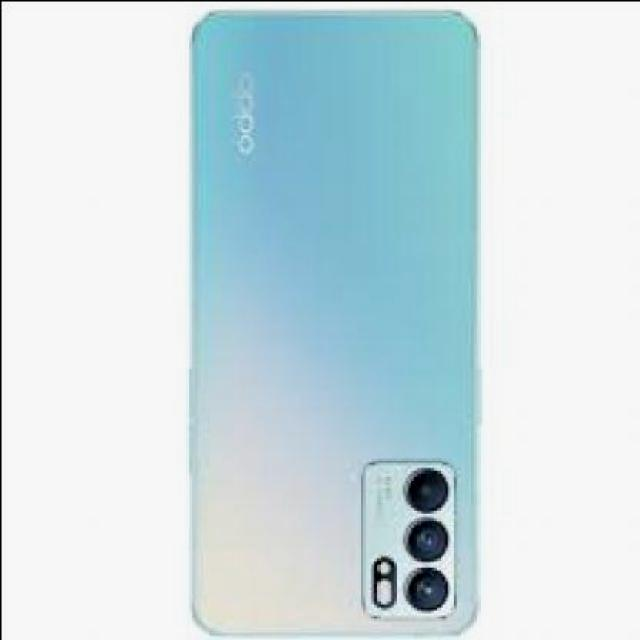phone: (187, 6, 478, 637)
